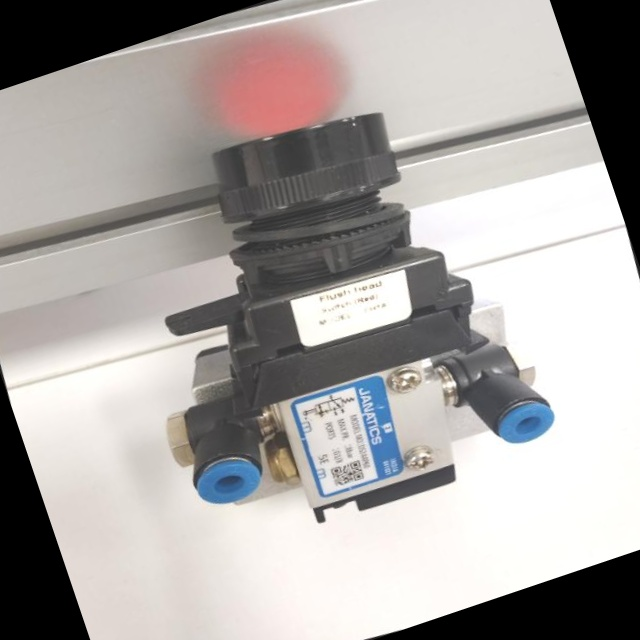push button: (73, 56, 594, 580)
